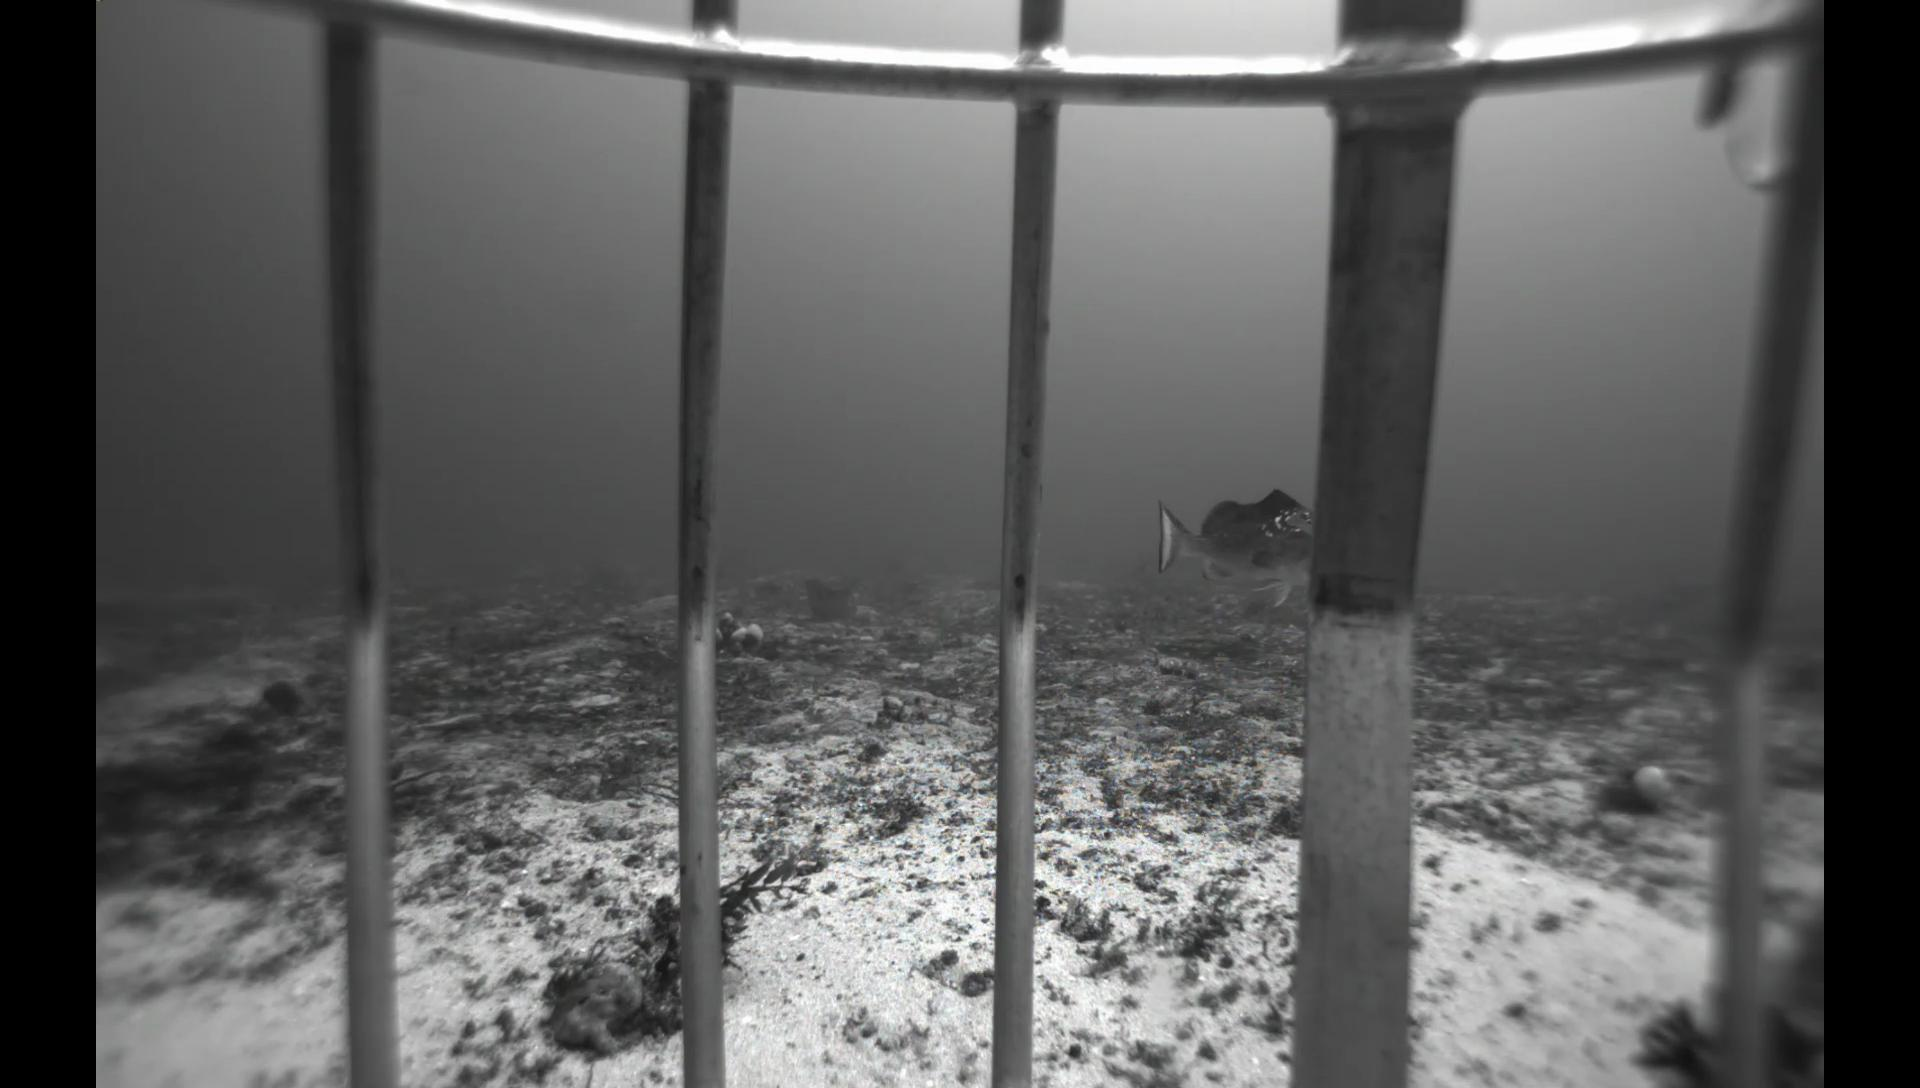CALAMUSPRORIDENS-170210605: (1760, 903, 1825, 1042)
CHAETODONOCELLATUS-170260307: (1633, 615, 1683, 650)
EPINEPHELUSMORIO-170021211: (1146, 481, 1309, 617)
PRISTIGENYSALTA-170050401: (247, 674, 320, 728)
